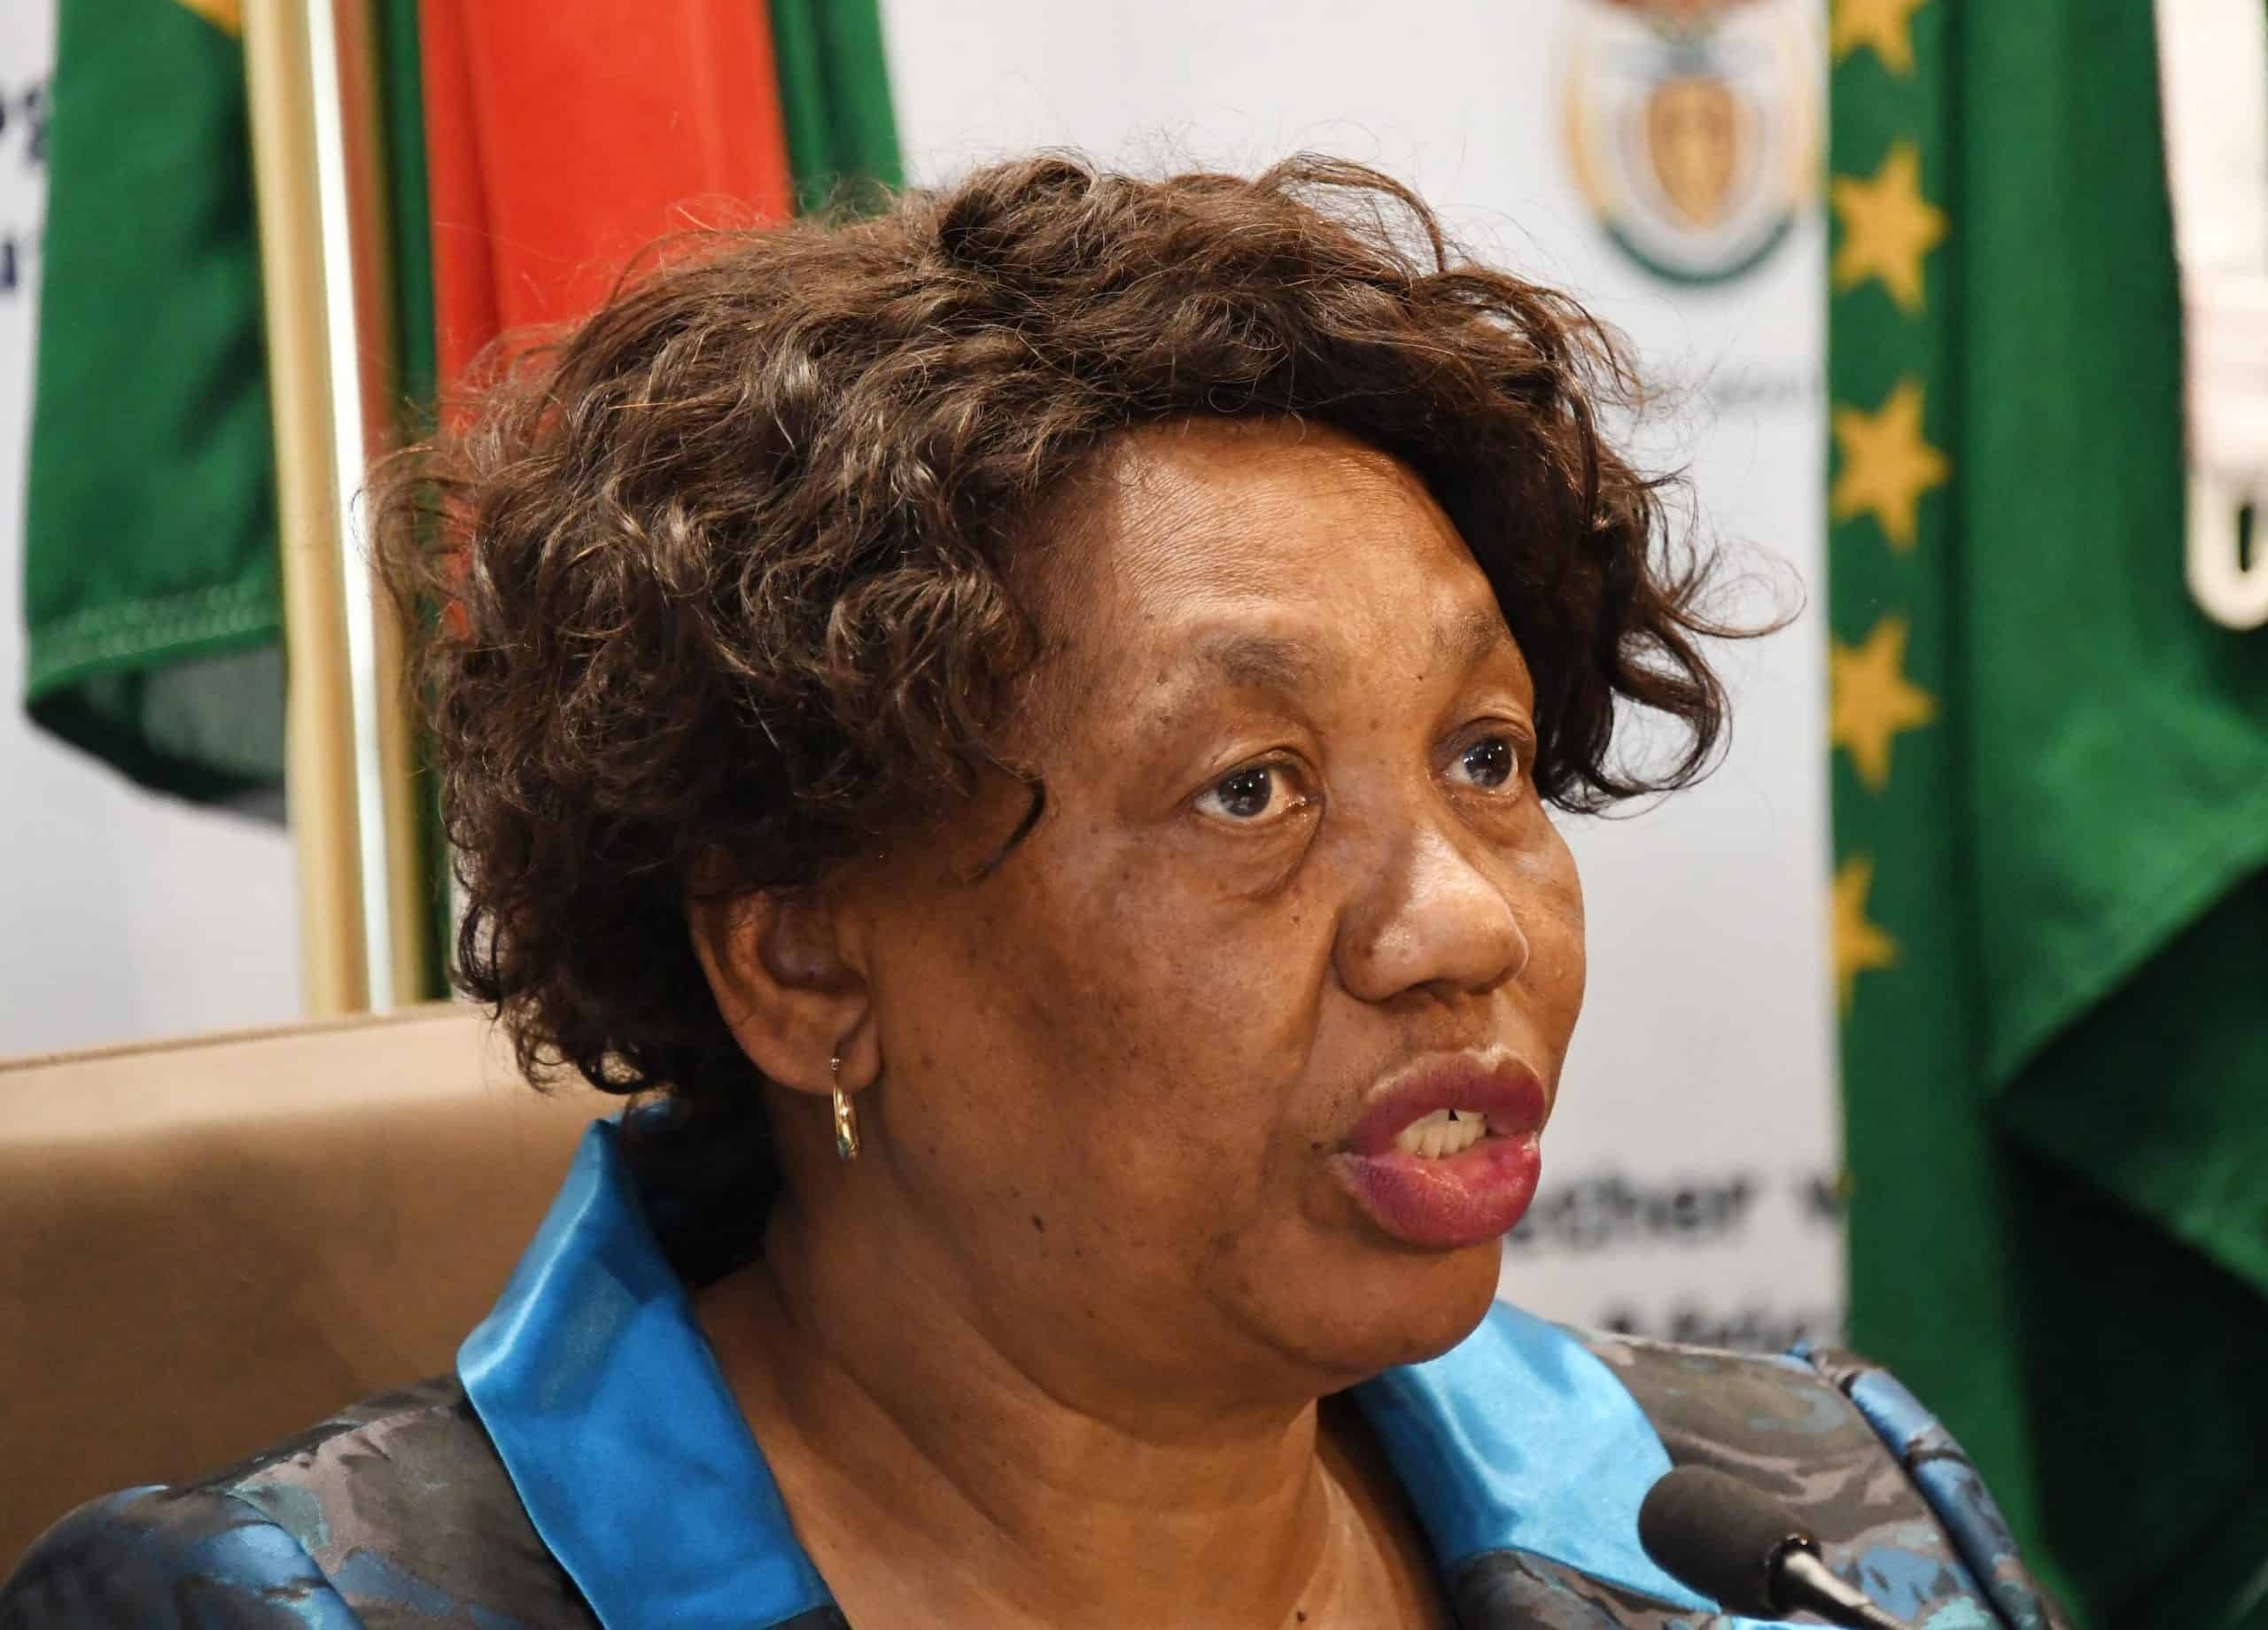face_no_mask: (478, 177, 1591, 1365)
